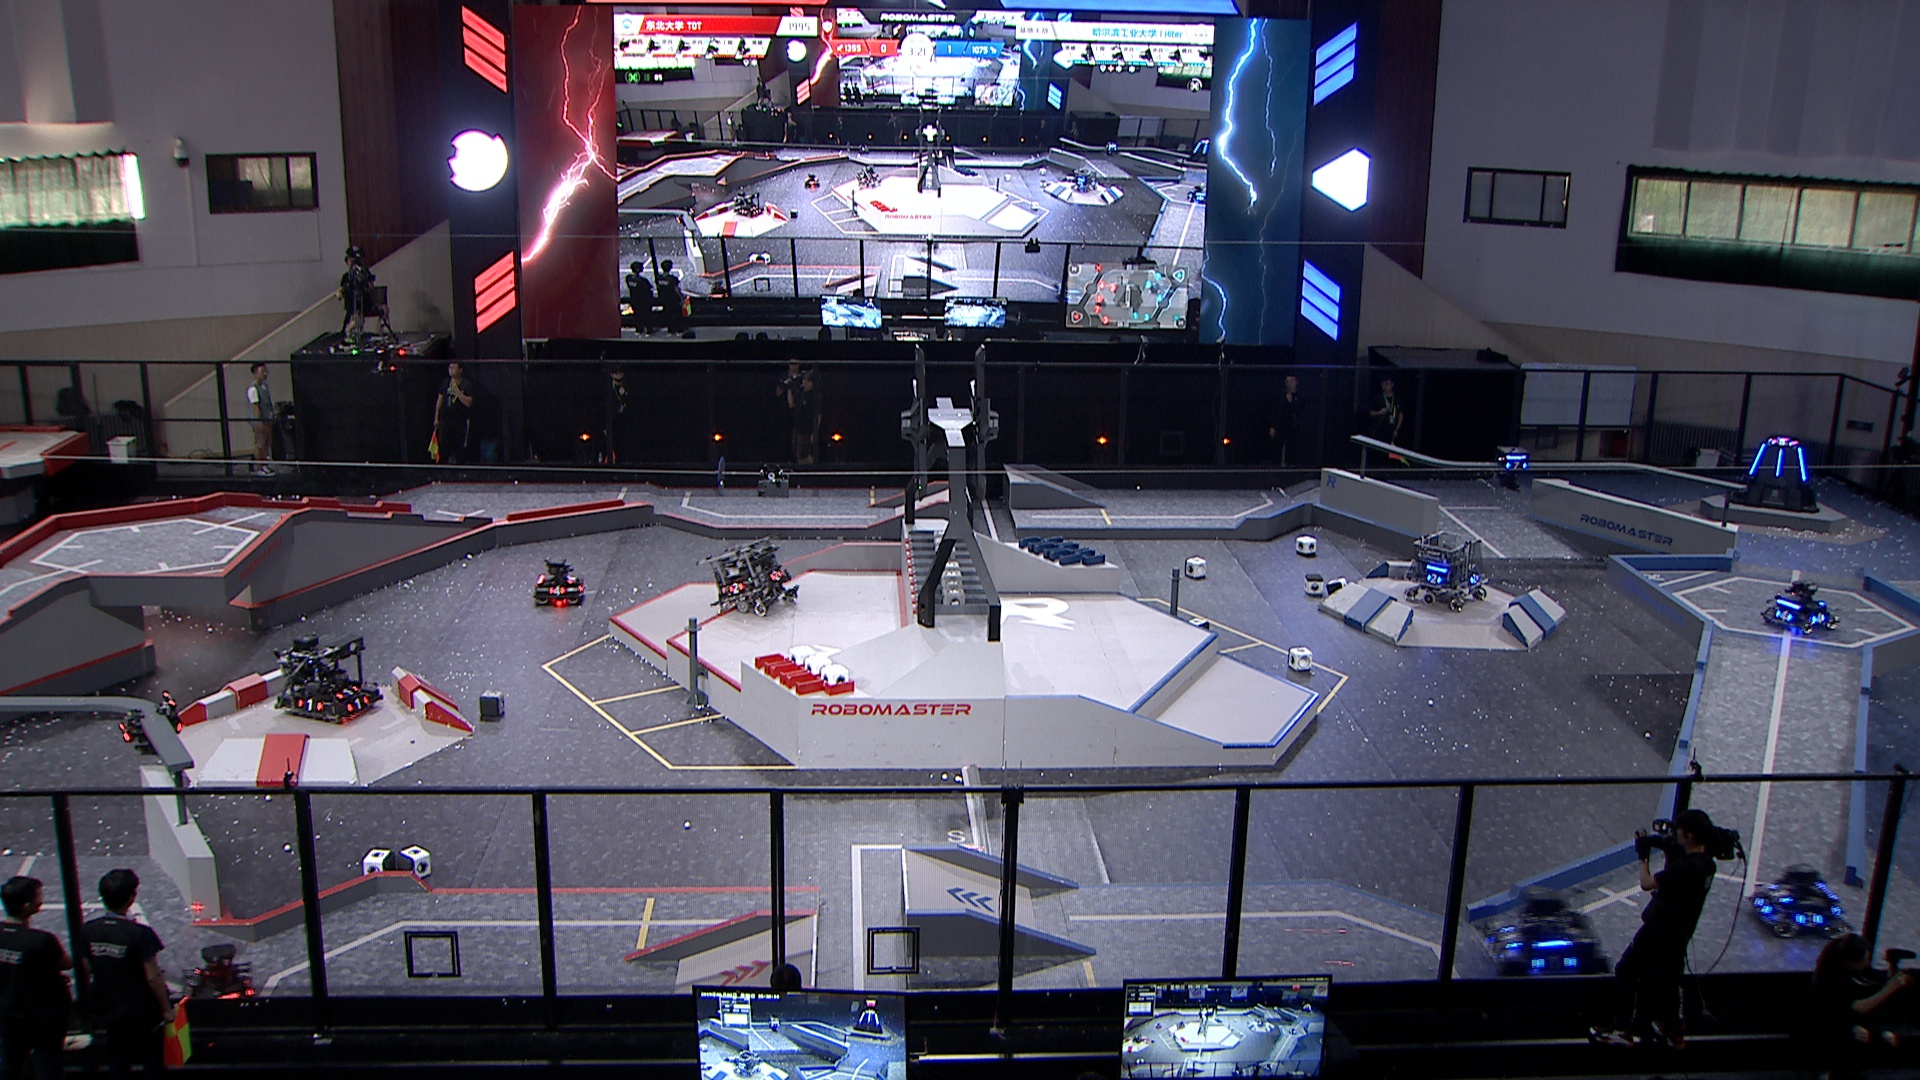armor: (1527, 953, 1582, 978), (1493, 922, 1527, 953), (1747, 439, 1768, 476), (1766, 882, 1797, 906), (1793, 907, 1826, 928), (1795, 444, 1809, 487), (345, 694, 371, 716), (1751, 893, 1774, 918), (330, 683, 359, 700), (115, 721, 135, 746), (295, 698, 324, 713), (1771, 446, 1785, 477), (1771, 607, 1797, 622), (1503, 458, 1531, 472), (1808, 608, 1826, 628), (547, 584, 568, 599), (560, 568, 578, 585), (728, 579, 746, 595), (1468, 567, 1484, 585), (1425, 571, 1444, 585), (769, 567, 785, 582)
base: (1721, 433, 1822, 509)
car: (1476, 882, 1613, 984), (269, 632, 381, 723), (1745, 858, 1850, 940), (698, 534, 795, 616), (1403, 527, 1487, 612), (182, 945, 266, 1025), (1760, 575, 1840, 636), (531, 555, 589, 608)
ignore: (731, 189, 764, 219), (1068, 167, 1105, 194), (855, 162, 884, 191), (1183, 136, 1209, 162), (800, 171, 822, 189), (1768, 436, 1797, 448)
watcher: (112, 687, 187, 761), (1493, 443, 1532, 495)
